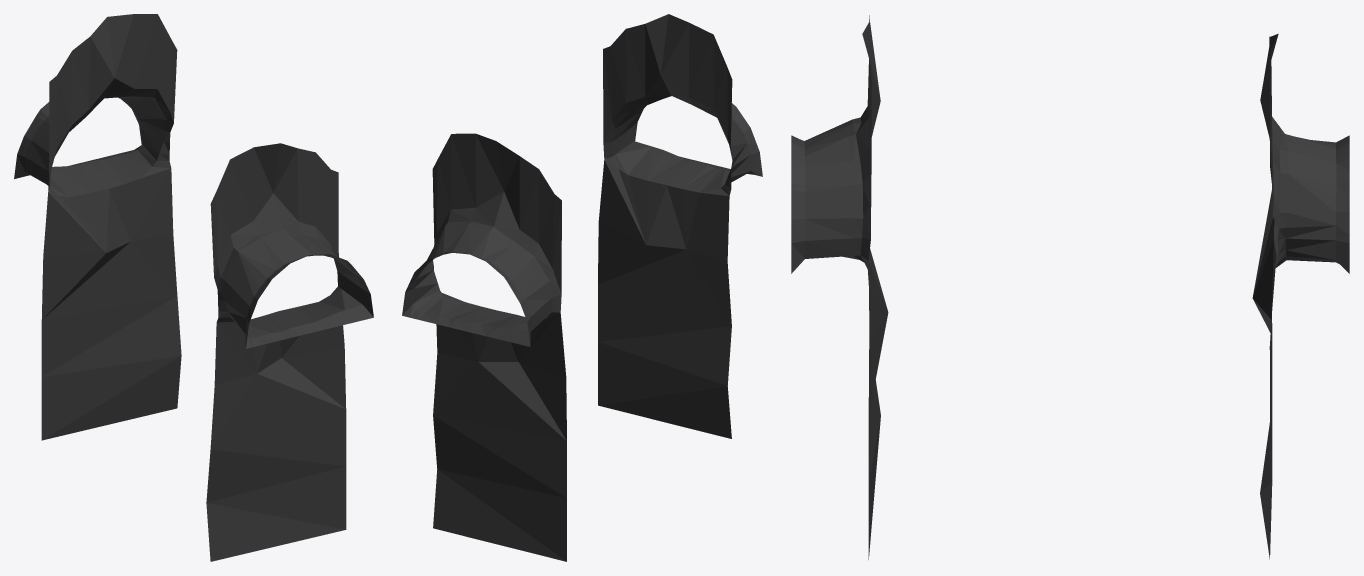
Rendered from Cave_8A_LOD_2.fbx.
The picture shows the model from 3 angles, left to right: view 1: azimuth 30°, elevation 25°; view 2: azimuth 150°, elevation 25°; view 3: azimuth 270°, elevation 25°; orthographic projection. The views are drawn at different scales.
Visible parts, largest first — view 1: polySurface1255; view 2: polySurface1255; view 3: polySurface1255.
Boxes of the visible parts, left/top/right/bottom form: polySurface1255: left=14, top=14, right=373, bottom=561; polySurface1255: left=402, top=14, right=762, bottom=561; polySurface1255: left=791, top=15, right=1349, bottom=559.
Size of the model in its own units: 8.82 by 24.96 by 25.9.
